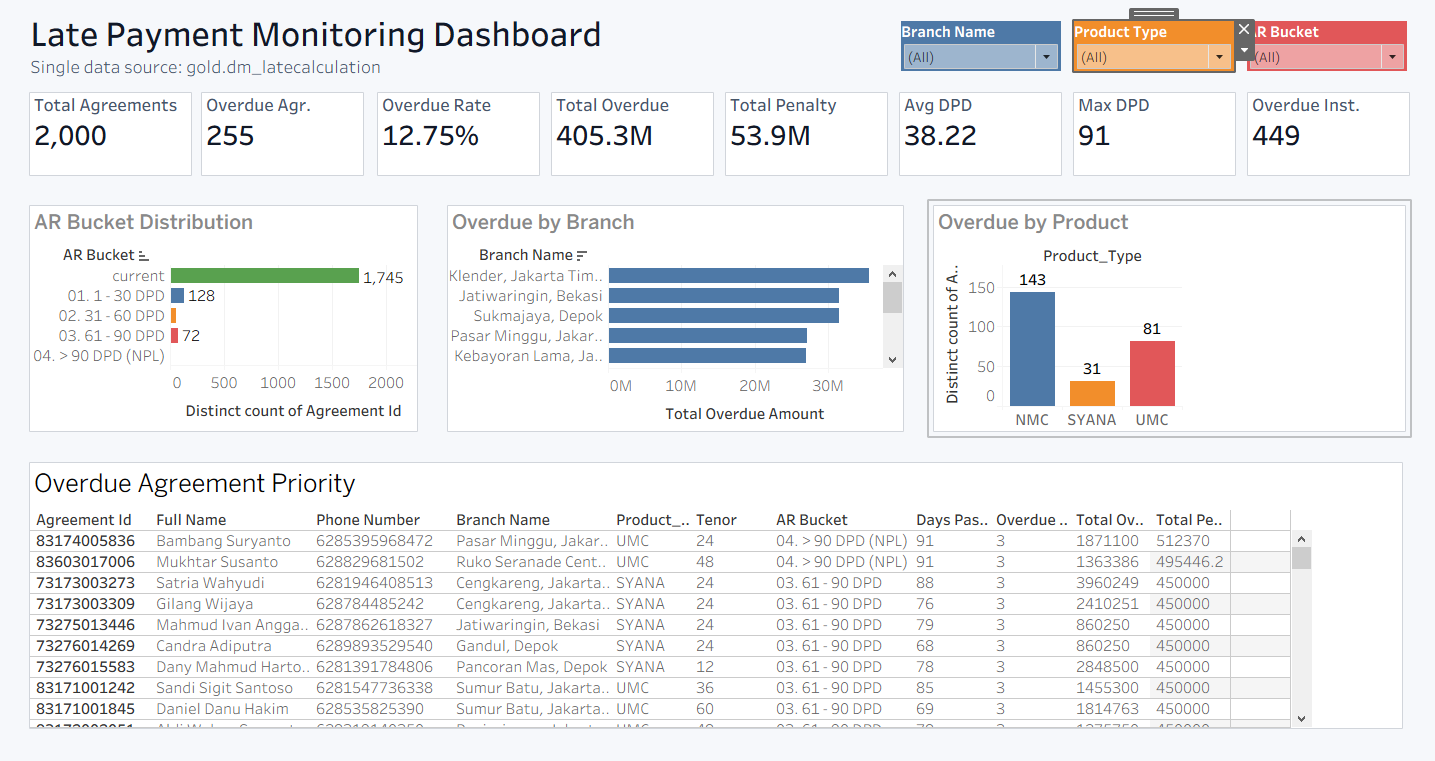

What the dashboard file says about the page in this screenshot:
{"tool":"tableau","page":{"name":"Late Payment Monitoring Dashboard","canvas":[1440,768],"ordinal":0},"visuals":[{"type":"blank","box":[0,0,1440,768]},{"type":"text","box":[30,11,745,74]},{"type":"filter","title":"Overdue by Branch","param":"[federated.0sog94m1svrsvj10tr96c0hu3g4f].[none:branch_name:nk]","box":[904,25,160,50]},{"type":"filter","title":"Overdue by Product","param":"[federated.0sog94m1svrsvj10tr96c0hu3g4f].[none:product_type:nk]","box":[1077,25,160,50]},{"type":"filter","title":"AR Bucket Distribution","param":"[federated.0sog94m1svrsvj10tr96c0hu3g4f].[none:ar_bucket:nk]","box":[1250,25,160,50]},{"type":"worksheet","title":"Total Agreement","mark":"Text","box":[28,92,171,92]},{"type":"worksheet","title":"Overdue Agreement","mark":"Text","box":[200,92,171,92]},{"type":"worksheet","title":"Overdue Rate","mark":"Text","box":[376,92,171,92]},{"type":"worksheet","title":"Total Overdue Amount","mark":"Automatic","box":[550,92,171,92]},{"type":"worksheet","title":"Total Penalty Amount","mark":"Automatic","box":[724,92,171,92]},{"type":"worksheet","title":"Average DPD","mark":"Automatic","box":[898,92,171,92]},{"type":"worksheet","title":"Maximum DPD","mark":"Automatic","box":[1072,92,171,92]},{"type":"worksheet","title":"Total Overdue Installments","mark":"Automatic","box":[1246,92,171,92]},{"type":"worksheet","title":"AR Bucket Distribution","mark":"Automatic","rows":["ar_bucket"],"cols":["agreement_id"],"box":[28,205,397,235]},{"type":"worksheet","title":"Overdue by Branch","mark":"Automatic","rows":["branch_name"],"cols":["Calculation_1132517277958148"],"box":[446,205,465,235]},{"type":"worksheet","title":"Overdue by Product","mark":"Automatic","rows":["agreement_id"],"cols":["product_type"],"box":[932,205,481,235]},{"type":"worksheet","title":"Overdue Agreement Priority","mark":"Text","rows":["agreement_id","full_name","phone_number","branch_name","product_type","tenor","ar_bucket","days_past_due","overdue_installment_count","total_overdue_amt","total_penalty_amt"],"box":[28,462,1382,275]}]}

Visuals, with their boxes in screenshot pixels (x1, y1, x2, y2), scaled from the page's 1440x768 canvas onto the 1435x761 screenshot:
blank: {"x1": 0, "y1": 0, "x2": 1434, "y2": 760}
text: {"x1": 30, "y1": 11, "x2": 772, "y2": 84}
"Overdue by Branch" filter: {"x1": 901, "y1": 25, "x2": 1060, "y2": 74}
"Overdue by Product" filter: {"x1": 1073, "y1": 25, "x2": 1233, "y2": 74}
"AR Bucket Distribution" filter: {"x1": 1246, "y1": 25, "x2": 1405, "y2": 74}
"Total Agreement" worksheet (Text marks): {"x1": 28, "y1": 91, "x2": 198, "y2": 182}
"Overdue Agreement" worksheet (Text marks): {"x1": 199, "y1": 91, "x2": 370, "y2": 182}
"Overdue Rate" worksheet (Text marks): {"x1": 375, "y1": 91, "x2": 545, "y2": 182}
"Total Overdue Amount" worksheet: {"x1": 548, "y1": 91, "x2": 718, "y2": 182}
"Total Penalty Amount" worksheet: {"x1": 721, "y1": 91, "x2": 892, "y2": 182}
"Average DPD" worksheet: {"x1": 895, "y1": 91, "x2": 1065, "y2": 182}
"Maximum DPD" worksheet: {"x1": 1068, "y1": 91, "x2": 1239, "y2": 182}
"Total Overdue Installments" worksheet: {"x1": 1242, "y1": 91, "x2": 1412, "y2": 182}
"AR Bucket Distribution" worksheet: {"x1": 28, "y1": 203, "x2": 424, "y2": 436}
"Overdue by Branch" worksheet: {"x1": 444, "y1": 203, "x2": 908, "y2": 436}
"Overdue by Product" worksheet: {"x1": 929, "y1": 203, "x2": 1408, "y2": 436}
"Overdue Agreement Priority" worksheet (Text marks): {"x1": 28, "y1": 458, "x2": 1405, "y2": 730}
